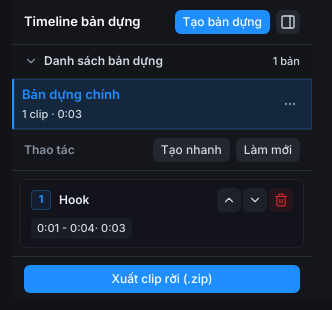
Scenario: StoryboardTimelinePanel › uses right-facing chevron when the build list is collapsed
Click the button "Danh sách bản dựng 1 bản".
click(162, 62)  # box [12,45,312,78]
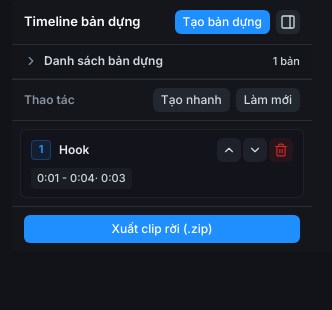
Result: the icon with test id "timeline-list-collapsed-icon" is shown at [24,54,38,68]
